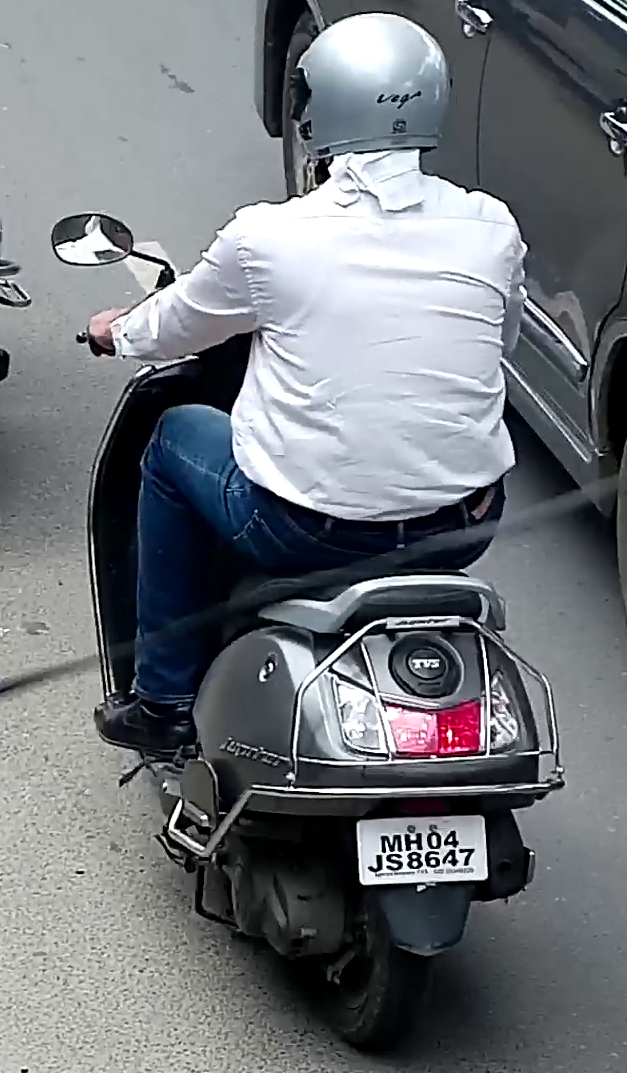0: (426, 831, 442, 849)
4: (442, 849, 459, 867), (444, 830, 460, 848)
6: (424, 850, 441, 869)
7: (459, 848, 475, 867)
8: (406, 851, 423, 870)
H: (404, 832, 423, 851)
J: (367, 854, 384, 872)
M: (379, 834, 403, 853)
P16: (353, 813, 489, 887)
S: (385, 853, 403, 871)
